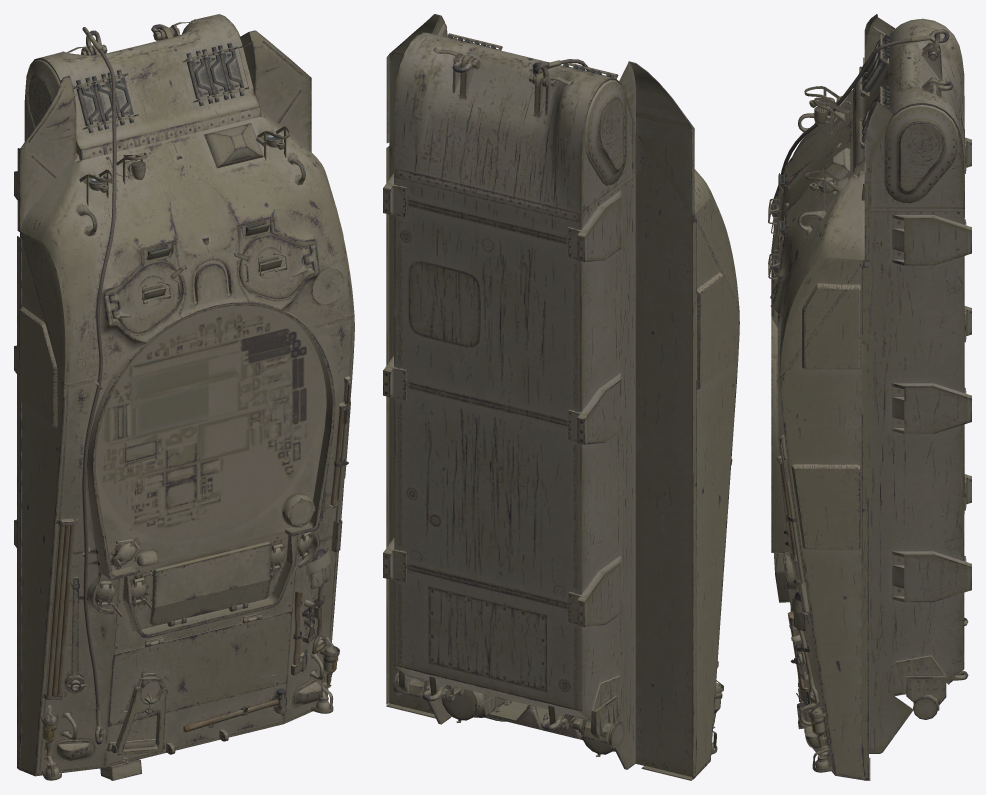
Rendered from Hull.glb.
3 renders of one model, left to right at view 1: azimuth 30°, elevation 25°; view 2: azimuth 150°, elevation 25°; view 3: azimuth 270°, elevation 25°, orthographic. The views are drawn at different scales.
Visible parts, largest first — view 1: set_0_group_0; view 2: set_0_group_0; view 3: set_0_group_0.
Boxes of the visible parts, x1,y1,x2,y2 form: set_0_group_0: [14, 14, 354, 780]; set_0_group_0: [383, 14, 739, 780]; set_0_group_0: [768, 14, 971, 780].
Size of the model in its own units: 2.68 by 5.94 by 1.64.
Materials: 1 (1 with a texture image).
